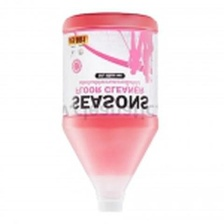cleaning_solution: (57, 8, 162, 216)
